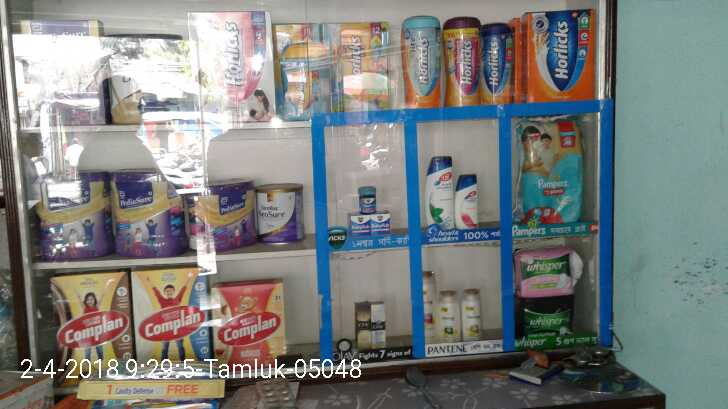vicks: (349, 185, 390, 236)
